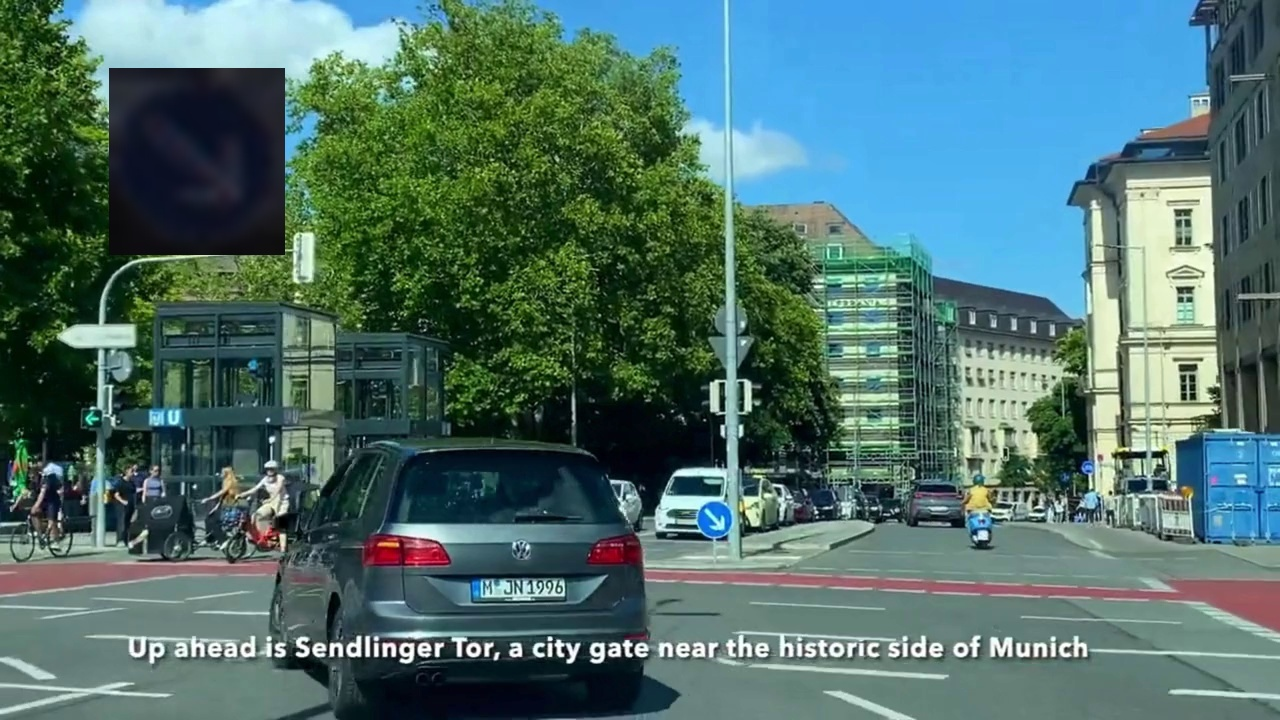Keep right: (109, 68, 285, 255)
